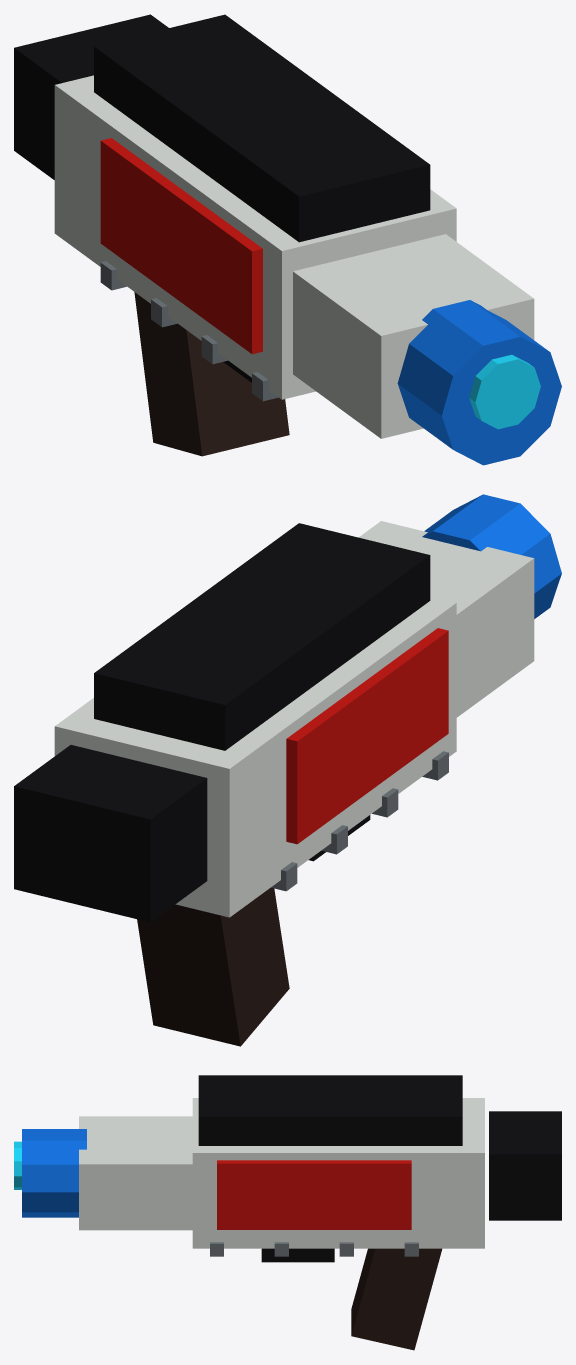
Rendered from Jessie_ShockGun.obj.
The picture shows the model from 3 angles, top to bottom: view 1: azimuth 30°, elevation 25°; view 2: azimuth 150°, elevation 25°; view 3: azimuth 270°, elevation 25°; orthographic projection. The views are drawn at different scales.
Visible parts, largest first — view 1: UpperRail, MainReceiver, BarrelHousing, SideRedStripeL, PulseMuzzle, Grip, StockStub, EnergyCore, Vents; view 2: UpperRail, MainReceiver, StockStub, SideRedStripeL, Grip, BarrelHousing, PulseMuzzle, Vents; view 3: UpperRail, MainReceiver, SideRedStripeR, BarrelHousing, StockStub, Grip, PulseMuzzle, TriggerGuard, Vents, EnergyCore.
Part boxes in pixels (x1,y1,x2,y2): UpperRail: [94, 14, 430, 242]; MainReceiver: [54, 75, 456, 399]; BarrelHousing: [293, 234, 534, 438]; SideRedStripeL: [100, 138, 262, 354]; PulseMuzzle: [397, 300, 561, 465]; Grip: [134, 292, 289, 456]; StockStub: [14, 14, 168, 179]; EnergyCore: [469, 354, 540, 429]; Vents: [100, 261, 278, 401]; UpperRail: [94, 523, 430, 750]; MainReceiver: [54, 596, 456, 917]; StockStub: [14, 745, 207, 922]; SideRedStripeL: [286, 628, 448, 844]; Grip: [137, 887, 289, 1046]; BarrelHousing: [359, 521, 534, 717]; PulseMuzzle: [422, 494, 561, 618]; Vents: [271, 751, 448, 891]; UpperRail: [198, 1075, 462, 1145]; MainReceiver: [192, 1098, 484, 1248]; SideRedStripeR: [217, 1160, 411, 1229]; BarrelHousing: [79, 1116, 192, 1230]; StockStub: [489, 1111, 561, 1220]; Grip: [351, 1248, 442, 1350]; PulseMuzzle: [22, 1129, 86, 1217]; TriggerGuard: [261, 1248, 334, 1262]; Vents: [210, 1242, 418, 1256]; EnergyCore: [14, 1141, 21, 1189].
Bounding box in the file's own units: 0.36 × 0.6543 × 1.35.
